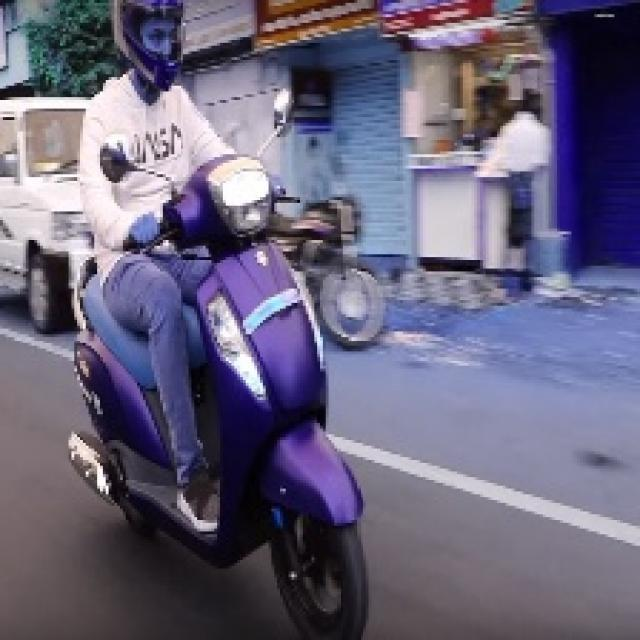Motorcycle: (51, 183, 385, 634)
